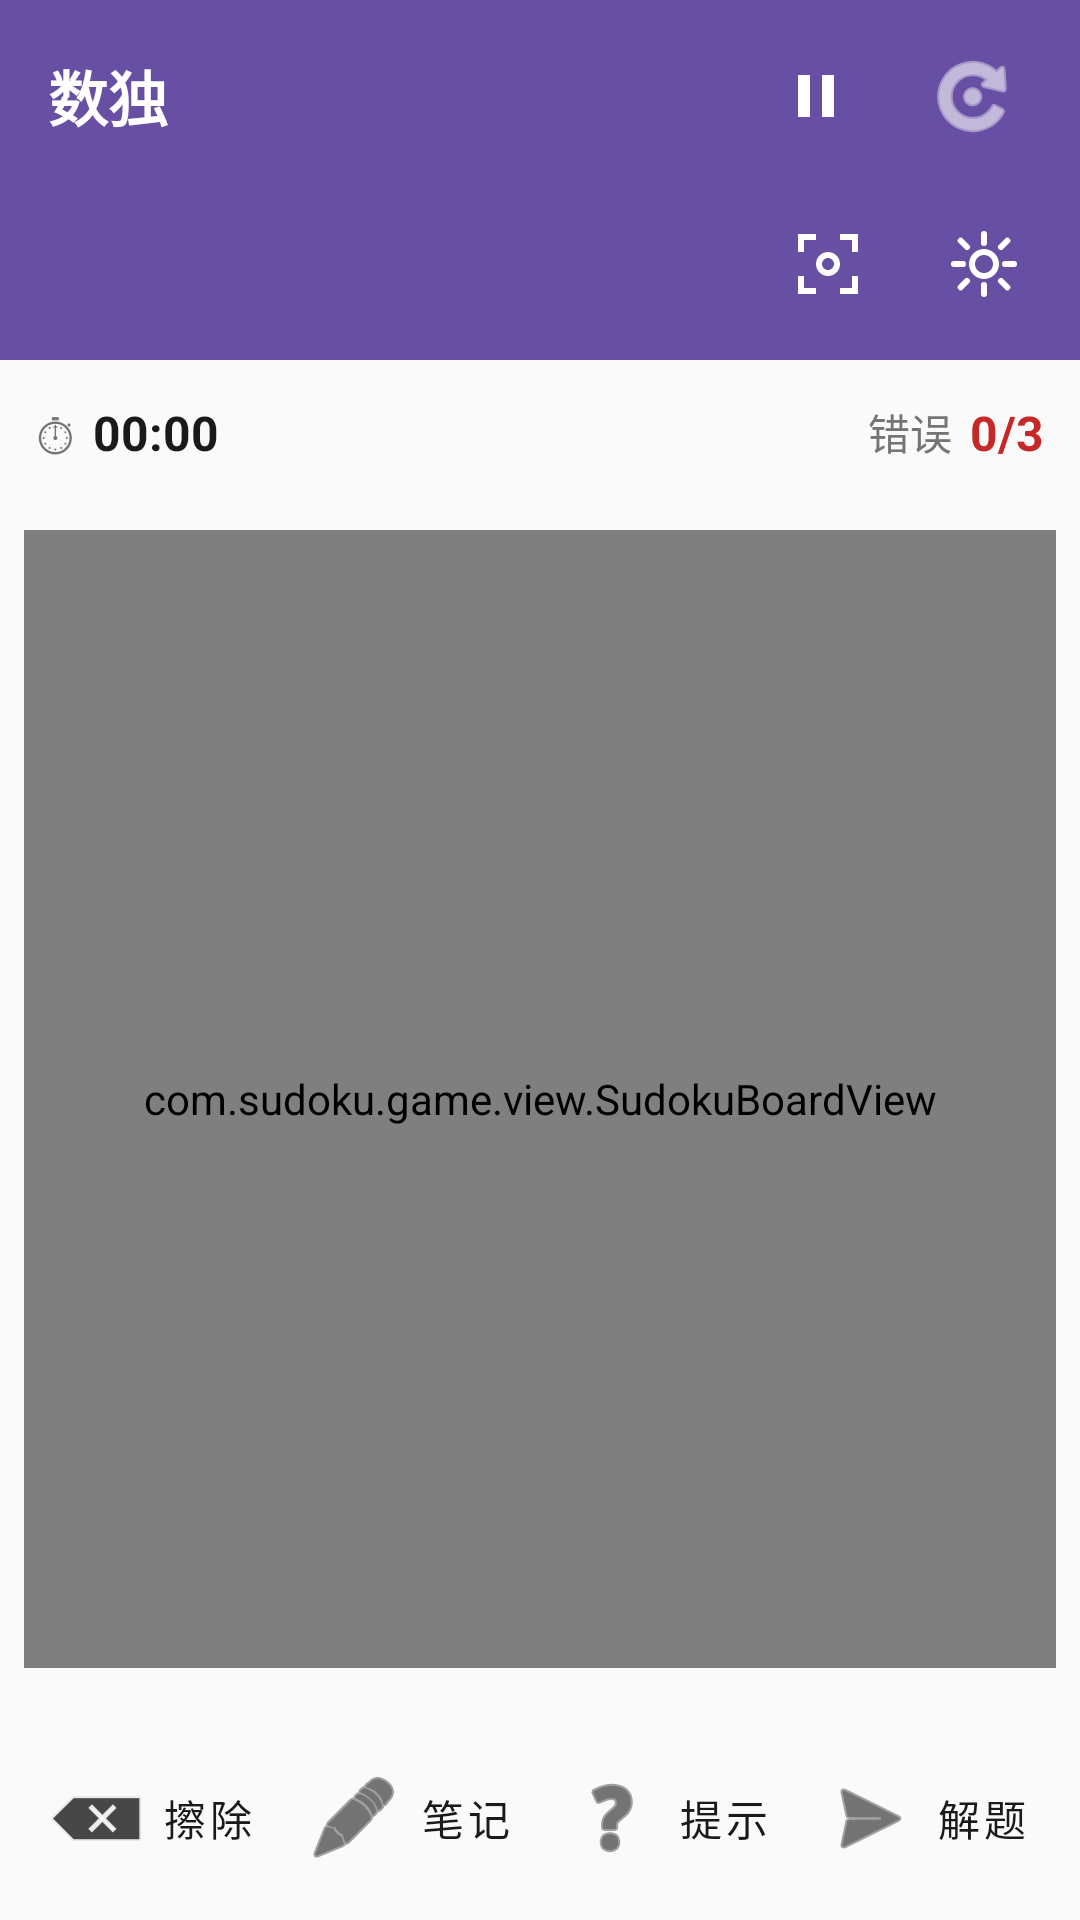

Screen size 1080 × 1920. Icon name, then its box in pixels as detection(x1, y1, x2, y2):
主题设置: detection(951, 231, 1017, 297)
暂停: detection(798, 75, 834, 117)
